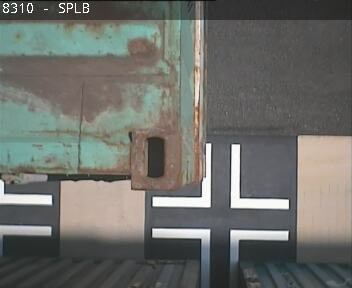groundmarker_1: (151, 144, 288, 210), (151, 228, 289, 287)
